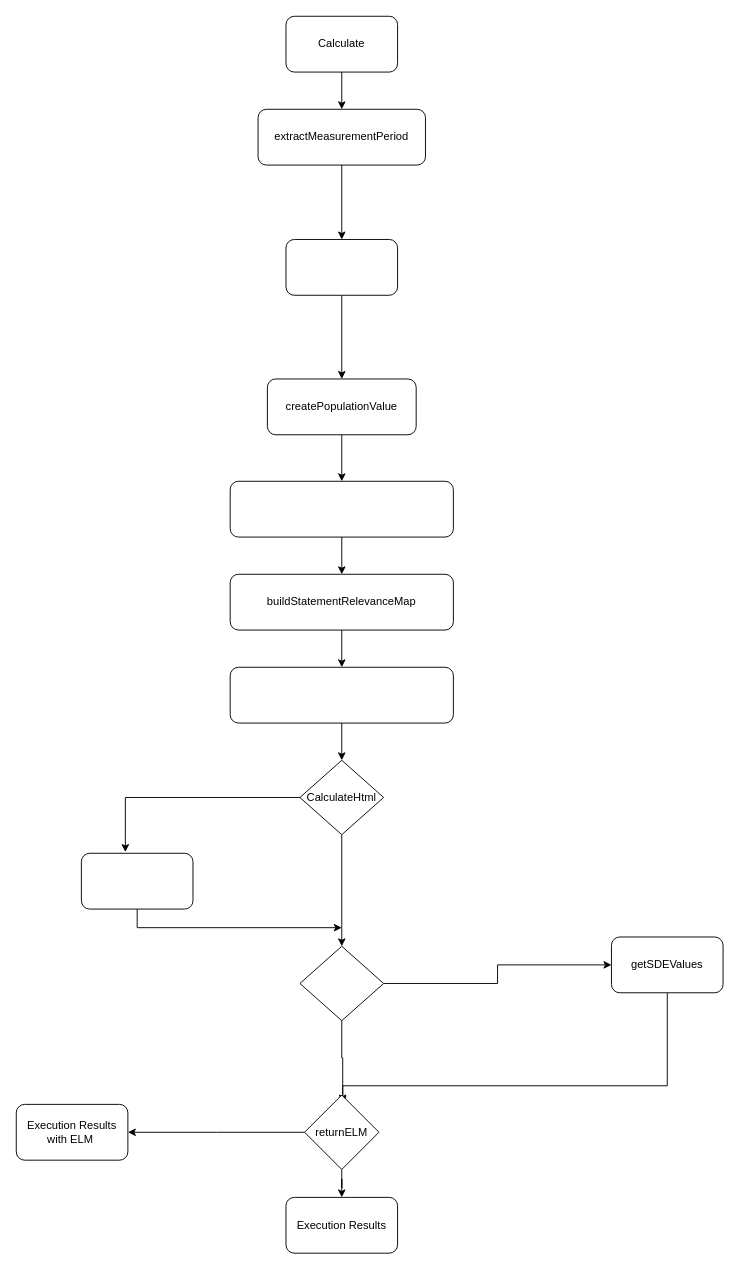
The diagram is 739 pixels wide and 1269 high, and some of its shapes have lost their labels. The centre of each missing label's shape, as x and y in pixels:
"buildPopulationGroupRelevanceMap" belongs at point 341,508.
"buildStatementClauseResults" belongs at point 341,694.
"CalculateSDEs" belongs at point 341,983.
"Execute" belongs at point 341,267.
"GenerateHtml" belongs at point 136,880.
